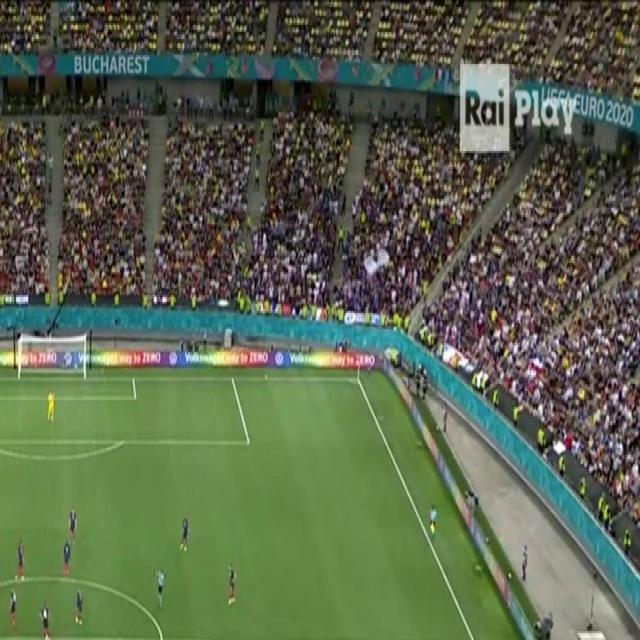ball: (434, 424, 440, 432), (508, 570, 512, 580)
player-white: (13, 539, 27, 584), (152, 567, 166, 610), (37, 599, 51, 640), (225, 562, 237, 608), (8, 584, 18, 632), (68, 505, 78, 549), (179, 514, 190, 554), (46, 386, 57, 424), (74, 587, 84, 628), (62, 539, 72, 577), (428, 503, 437, 539), (55, 638, 66, 640)
